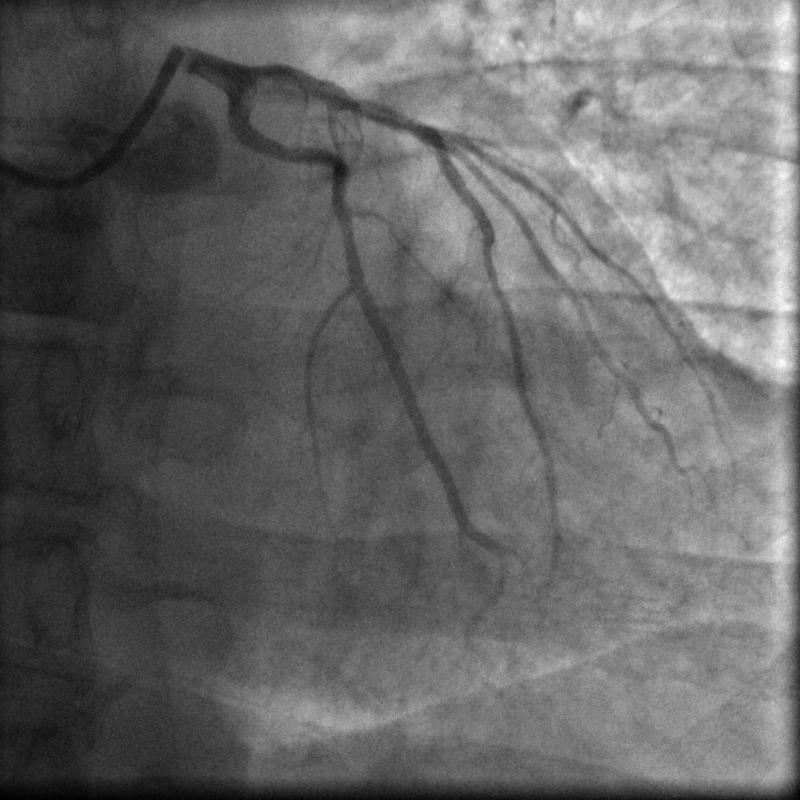Stenosis: (329, 89, 437, 145)
